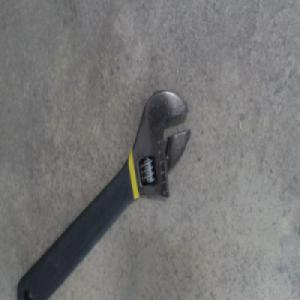AdjustableWrench: (21, 88, 191, 292)
